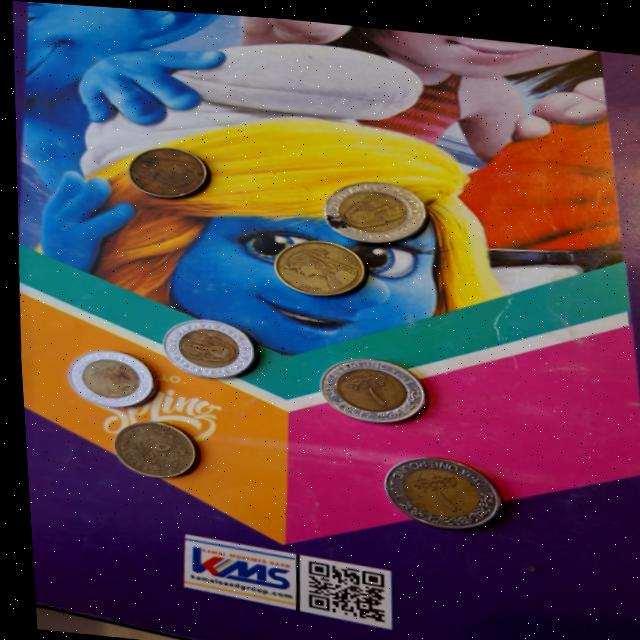Half Pound: (264, 225, 370, 299), (100, 409, 196, 483), (116, 135, 215, 206)
One Pound: (371, 442, 507, 529), (308, 344, 428, 424), (313, 167, 438, 243), (152, 309, 257, 381), (58, 340, 151, 412)
